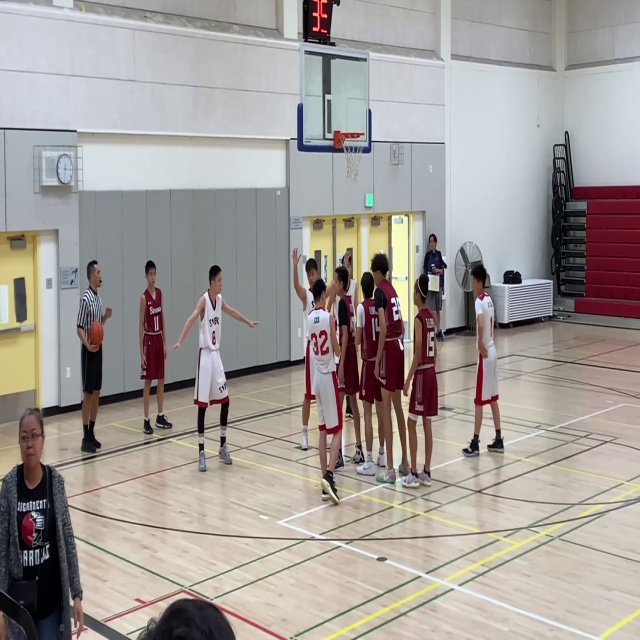Basketball: (89, 321, 104, 346)
